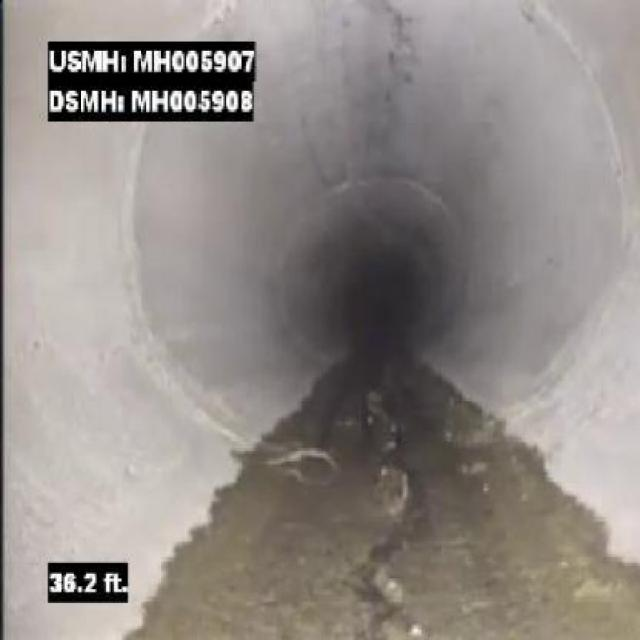Buckling: (357, 420, 425, 632)
Crack: (378, 5, 438, 163)
